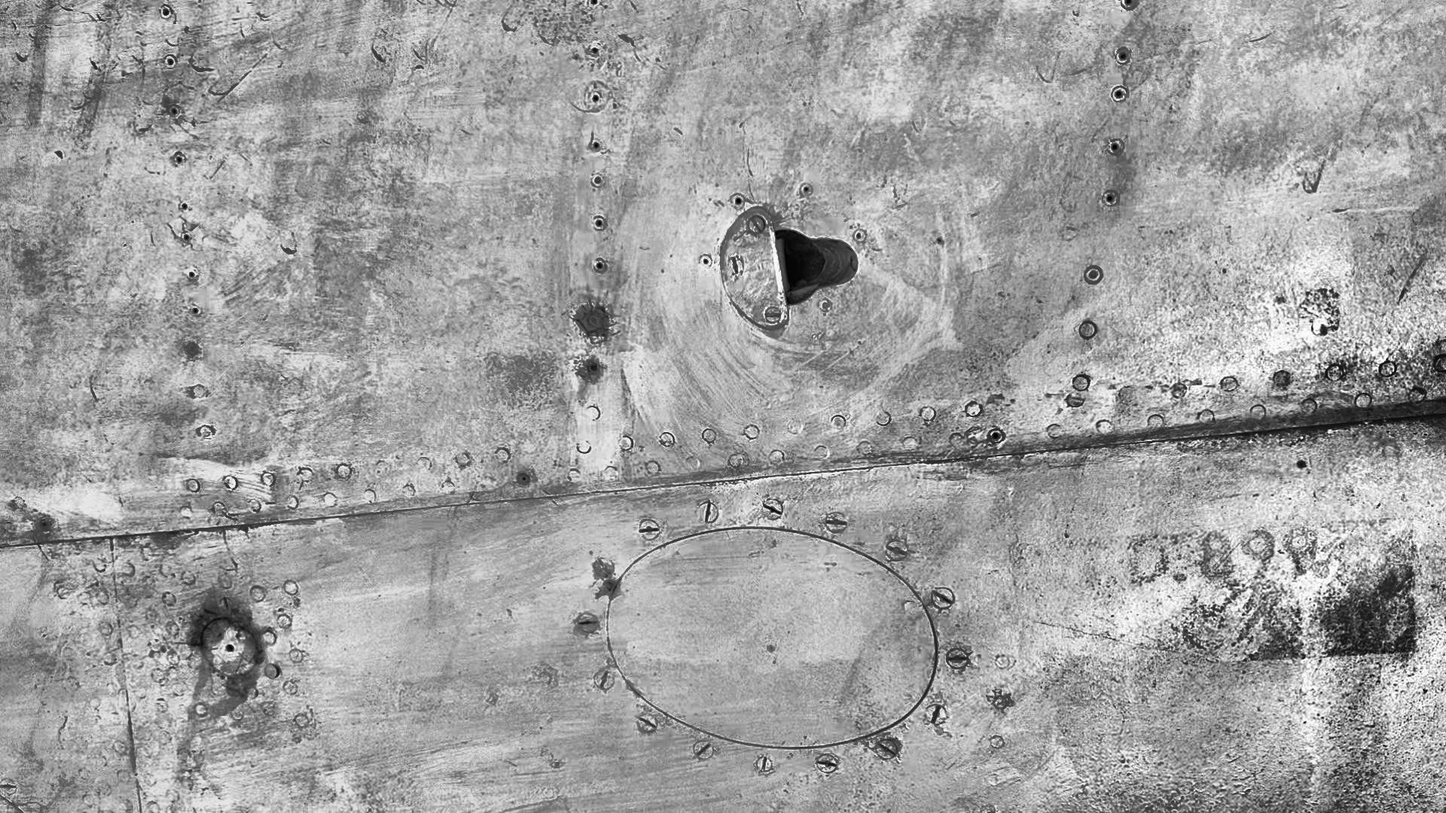missing-head: (1106, 138, 1124, 155), (1116, 47, 1132, 65), (1110, 85, 1126, 102), (172, 151, 187, 167), (158, 4, 172, 18), (1104, 190, 1117, 205), (988, 429, 1004, 441), (164, 54, 176, 69), (733, 194, 745, 209), (1120, 0, 1136, 11), (169, 104, 181, 118), (854, 229, 866, 242), (590, 92, 601, 104), (800, 184, 811, 195), (700, 256, 712, 266), (595, 260, 606, 270), (187, 270, 197, 280), (594, 218, 604, 228), (591, 43, 599, 55), (180, 201, 190, 210), (520, 473, 529, 483), (183, 232, 192, 241), (192, 305, 200, 315), (589, 0, 598, 8), (592, 142, 601, 149)
paint-peel-off: (576, 302, 611, 340), (188, 606, 218, 647), (593, 557, 623, 597), (576, 359, 601, 381)
scratch: (217, 51, 268, 103)
